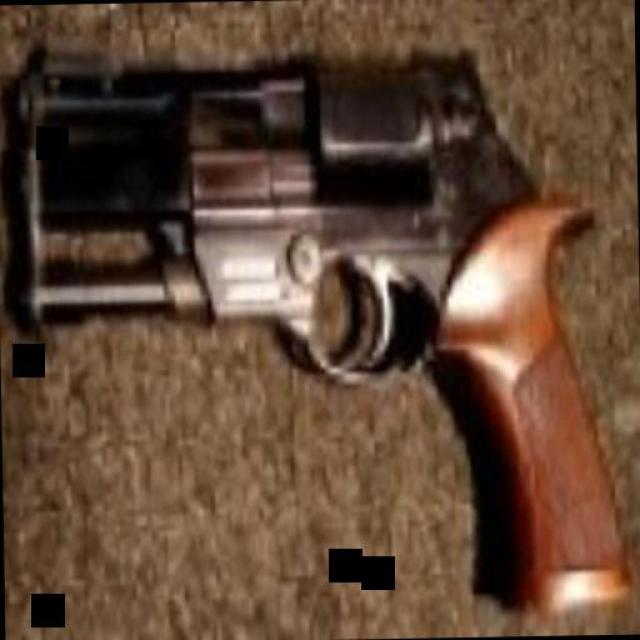gun: (14, 30, 631, 616)
